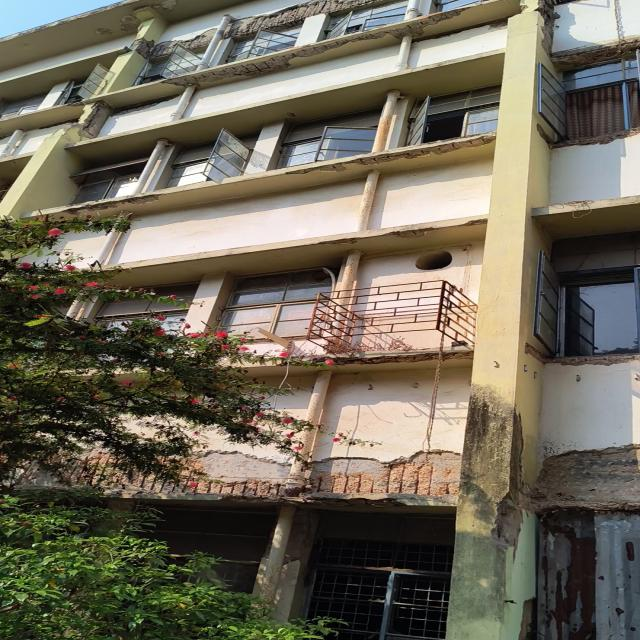Crack: (170, 255, 202, 261)
Scaling: (522, 445, 639, 513), (95, 0, 176, 39)
Spalling: (159, 3, 481, 89), (50, 450, 459, 507), (281, 131, 495, 175), (231, 0, 387, 39), (315, 218, 487, 245), (323, 0, 425, 39), (80, 98, 172, 139), (551, 36, 639, 71), (36, 192, 162, 216), (526, 345, 639, 366), (413, 18, 508, 42), (320, 349, 438, 367), (556, 128, 639, 148), (532, 0, 555, 54), (174, 32, 209, 50), (36, 117, 79, 129), (444, 349, 473, 360), (64, 100, 94, 106)
pollution -moisture induced blackening: (0, 0, 139, 42)
